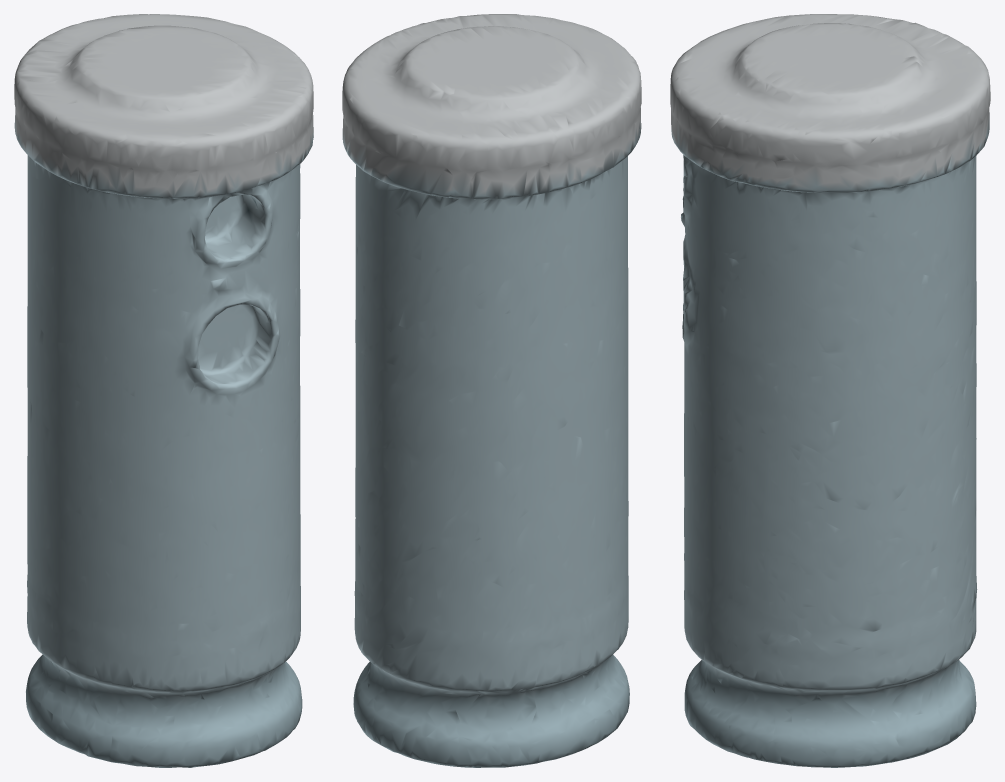
The model's file is metro-bin.glb.
3 views of the same model, side by side, from view 1: azimuth 30°, elevation 25°; view 2: azimuth 150°, elevation 25°; view 3: azimuth 270°, elevation 25° (orthographic).
Visible parts, largest first — view 1: geometry_0; view 2: geometry_0; view 3: geometry_0.
Part boxes in pixels (x1,y1,x2,y2): geometry_0: (14, 14, 313, 767); geometry_0: (342, 14, 641, 767); geometry_0: (670, 14, 990, 767).
Size of the model in its own units: 0.804 by 1.96 by 0.8693.
